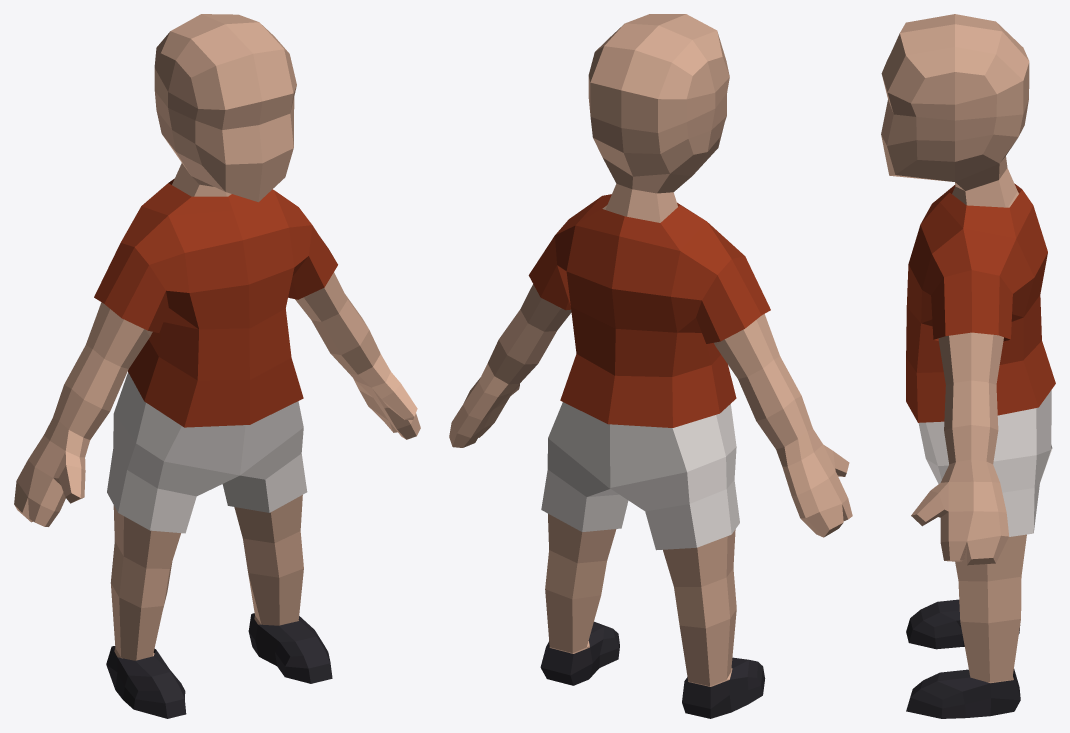
Rendered from Child01.fbx.
3 views of the same model, side by side, from view 1: azimuth 30°, elevation 25°; view 2: azimuth 150°, elevation 25°; view 3: azimuth 270°, elevation 25° (orthographic).
Visible parts, largest first — view 1: base1, clothes, pants, shoes; view 2: base1, clothes, pants, shoes; view 3: base1, clothes, pants, shoes.
Part boxes in pixels (box(x1,y1,x2,y2)): base1: box(14, 14, 420, 660); clothes: box(94, 178, 337, 427); pants: box(107, 372, 307, 533); shoes: box(106, 613, 332, 718); base1: box(449, 14, 852, 686); clothes: box(528, 194, 770, 427); pants: box(541, 402, 739, 550); shoes: box(540, 621, 765, 718); base1: box(881, 14, 1029, 683); clothes: box(906, 183, 1055, 422); pants: box(918, 390, 1052, 536); shoes: box(906, 599, 1020, 718).
Bounding box in the file's own units: 0.6064 × 0.9813 × 0.2392.
